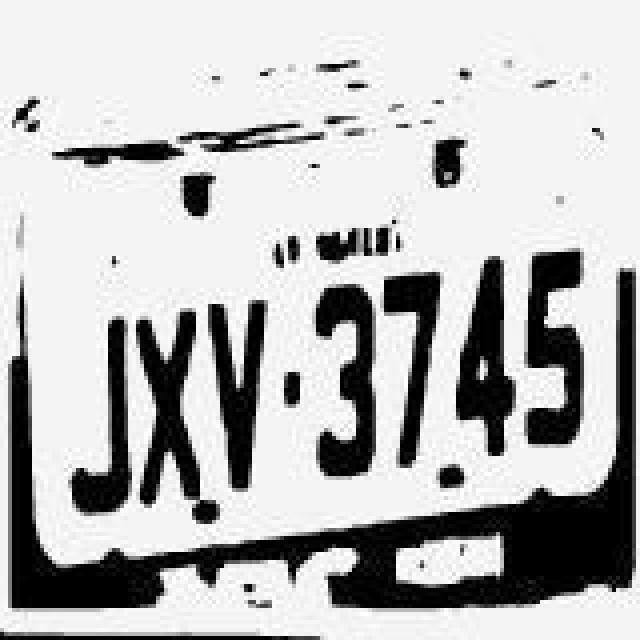3: (308, 270, 380, 514)
4: (452, 228, 524, 460)
5: (522, 228, 598, 476)
7: (380, 256, 444, 472)
J: (66, 290, 134, 518)
V: (204, 274, 268, 502)
X: (134, 282, 202, 502)
